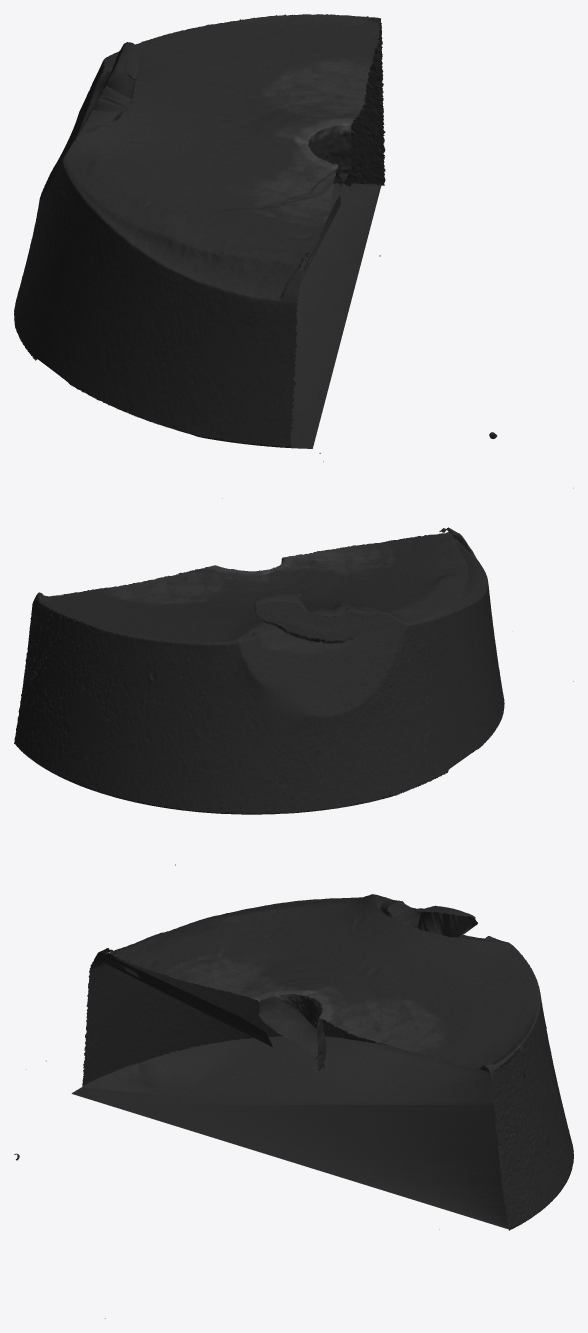
Rendered from puedeser_mitad.fbx.
The picture shows the model from 3 angles, top to bottom: view 1: azimuth 30°, elevation 25°; view 2: azimuth 150°, elevation 25°; view 3: azimuth 270°, elevation 25°; orthographic projection. The views are drawn at different scales.
Visible parts, largest first — view 1: Pieza Fosca limpia (2).018; view 2: Pieza Fosca limpia (2).018; view 3: Pieza Fosca limpia (2).018.
Part boxes in pixels (bbox=[...]): Pieza Fosca limpia (2).018: bbox=[14, 14, 385, 448]; Pieza Fosca limpia (2).018: bbox=[14, 527, 504, 814]; Pieza Fosca limpia (2).018: bbox=[71, 894, 573, 1230].
Bounding box in the file's own units: 11153 × 8373 × 13936.
Materials: 1 (1 with a texture image).
